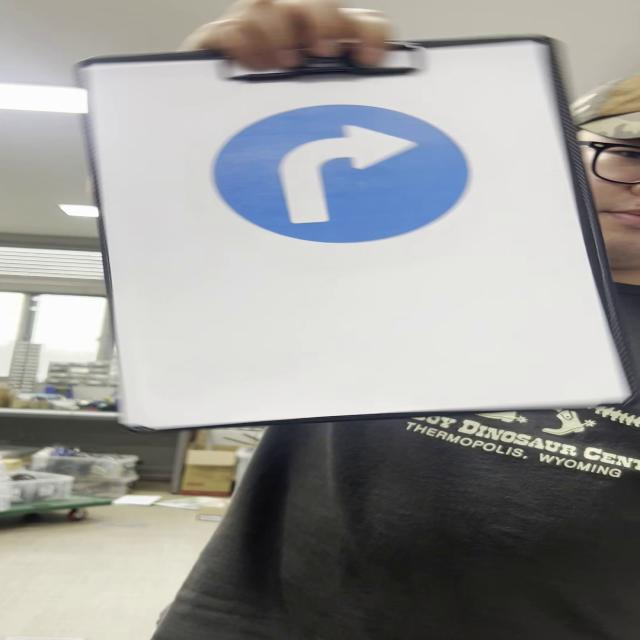right: (216, 105, 470, 247)
